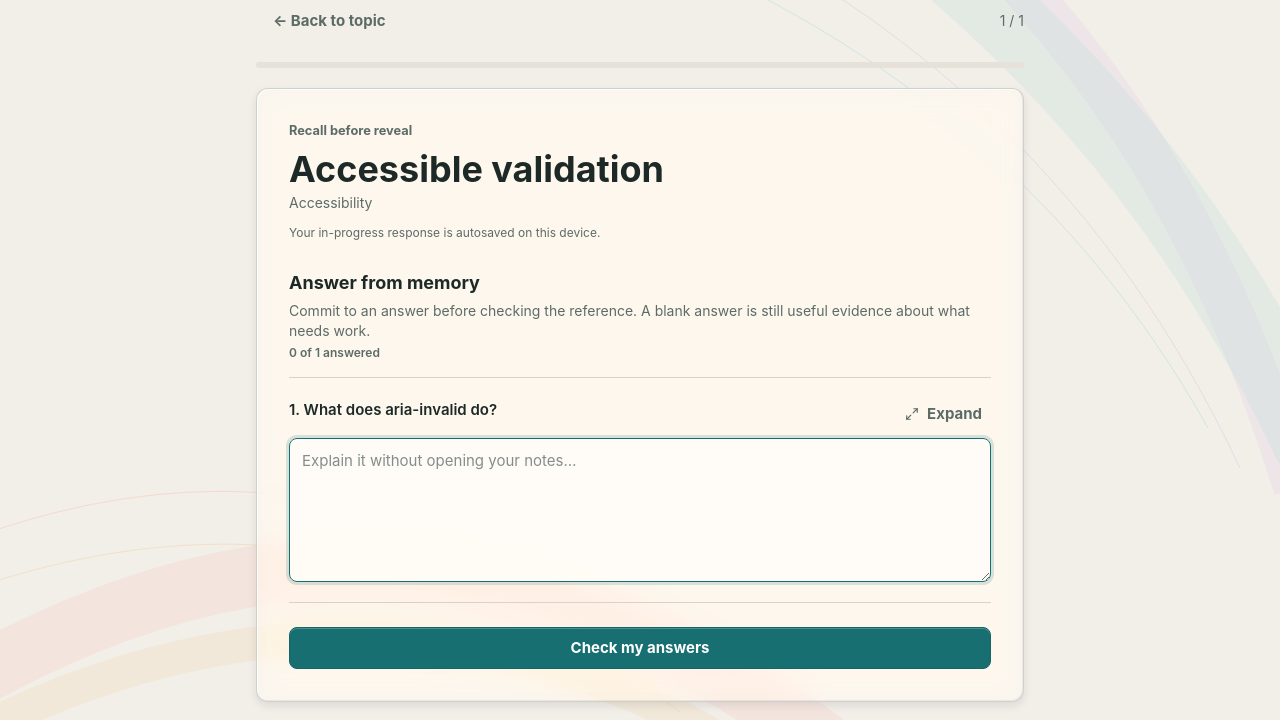
Test: ReviewSession structured recall › returns a manually opened review to its topic page
This screenshot has width=1280, height=720.
What coordinates should you click on to do the following:
click the button "Check my answers"
I would click on:
 (640, 648)
Its box is [289,627,991,669].
(page scrolled)
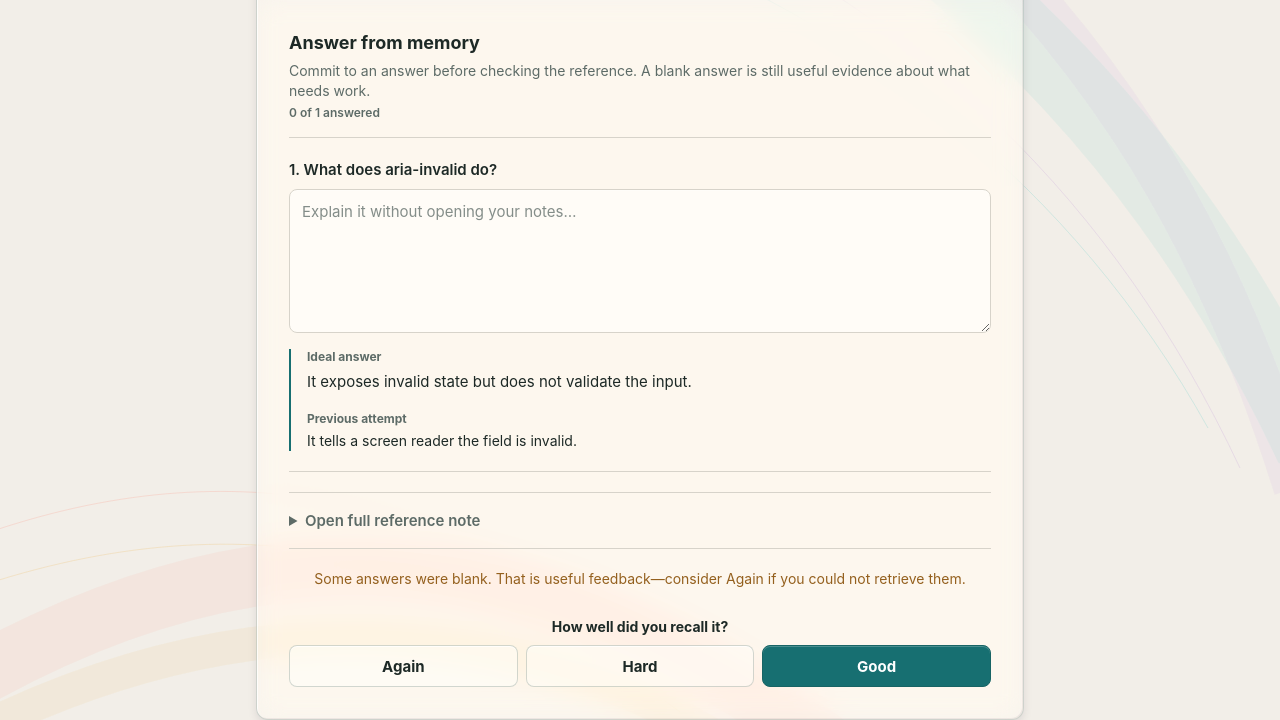
What coordinates should you click on to do the following:
click the button "good"
I would click on:
 (877, 666)
Its box is [762,645,991,687].
(page scrolled)
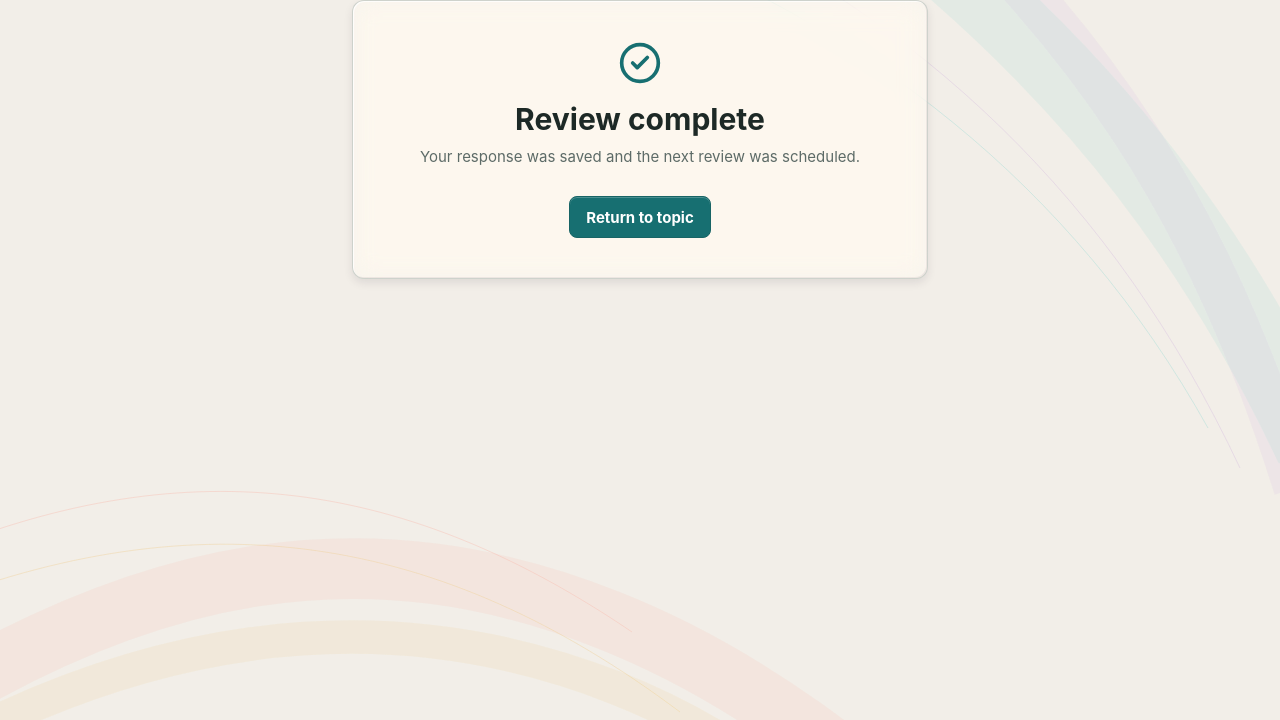
Now the heading "Review complete" is shown, box [515,101,765,137]
